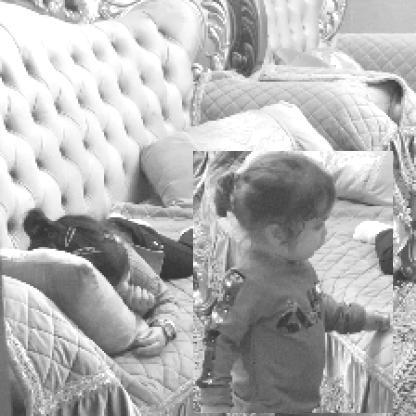child: (194, 152, 395, 415), (22, 207, 234, 359)
